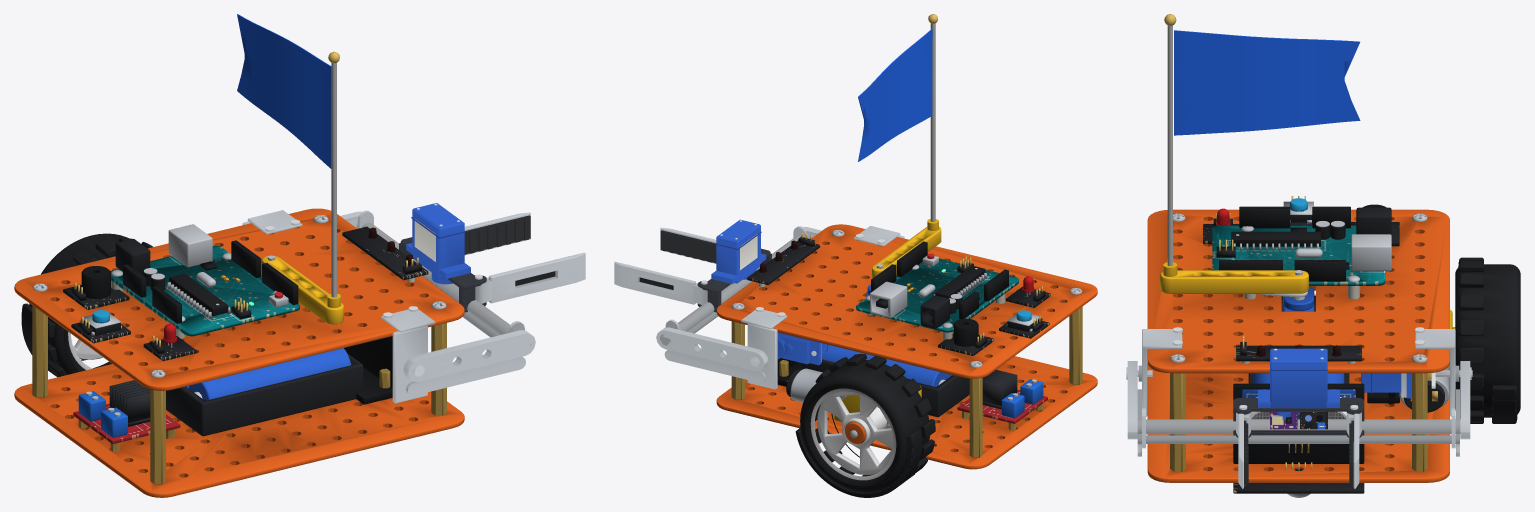
The model's file is robot-kit.glb.
The picture shows the model from 3 angles, left to right: view 1: azimuth 30°, elevation 25°; view 2: azimuth 150°, elevation 25°; view 3: azimuth 270°, elevation 25°; orthographic projection. The views are drawn at different scales.
Visible parts, largest first — view 1: chassis_plate_upper, chassis_plate_lower, board_static, chassis_battery, pennant, gripper_carriage, gripper_boom, chassis_driver, chassis_standoffs, tyre, gripper_bracket_static, gripper_jaw.001 (+9 smaller); view 2: chassis_plate_upper, chassis_plate_lower, tyre, board_static, pennant, rim, gripper_bracket_static, gripper_carriage, gripper_boom, chassis_driver, chassis_standoffs, chassis_battery (+10 smaller); view 3: chassis_plate_upper, pennant, chassis_plate_lower, board_static, tyre, gripper_carriage, gripper_boom, gripper_bracket_static, servo_arm, ultrasonic_static, chassis_standoffs, mast (+11 smaller).
Boxes of the visible parts, bbox=[...] form: chassis_plate_upper: bbox=[14, 208, 464, 390]; chassis_plate_lower: bbox=[14, 364, 464, 497]; board_static: bbox=[110, 224, 299, 338]; chassis_battery: bbox=[166, 348, 363, 436]; pennant: bbox=[237, 14, 331, 168]; gripper_carriage: bbox=[357, 203, 524, 357]; gripper_boom: bbox=[340, 211, 535, 381]; chassis_driver: bbox=[73, 380, 180, 451]; chassis_standoffs: bbox=[32, 305, 446, 484]; tyre: bbox=[21, 233, 152, 377]; gripper_bracket_static: bbox=[242, 210, 435, 403]; gripper_jaw.001: bbox=[475, 252, 585, 303]; chassis_plate_upper: bbox=[716, 224, 1097, 378]; chassis_plate_lower: bbox=[716, 356, 1097, 469]; tyre: bbox=[795, 354, 935, 497]; board_static: bbox=[856, 241, 1018, 340]; pennant: bbox=[858, 29, 932, 161]; rim: bbox=[810, 388, 896, 480]; gripper_bracket_static: bbox=[741, 226, 904, 389]; gripper_carriage: bbox=[665, 219, 806, 333]; gripper_boom: bbox=[656, 227, 821, 371]; chassis_driver: bbox=[957, 369, 1047, 430]; chassis_standoffs: bbox=[731, 306, 1082, 457]; chassis_battery: bbox=[802, 345, 969, 417]; chassis_plate_upper: bbox=[1147, 209, 1449, 373]; pennant: bbox=[1174, 30, 1360, 135]; chassis_plate_lower: bbox=[1147, 363, 1449, 482]; board_static: bbox=[1212, 206, 1391, 299]; tyre: bbox=[1455, 257, 1520, 423]; gripper_carriage: bbox=[1137, 348, 1459, 448]; gripper_boom: bbox=[1126, 361, 1472, 439]; gripper_bracket_static: bbox=[1138, 327, 1459, 416]; servo_arm: bbox=[1159, 270, 1308, 297]; ultrasonic_static: bbox=[1233, 383, 1364, 463]; chassis_standoffs: bbox=[1170, 373, 1427, 471]; mast: bbox=[1163, 14, 1177, 276].
Bounding box in the file's own units: 0.2248 × 0.1922 × 0.1565.
Materials: 44 (6 with a texture image).
